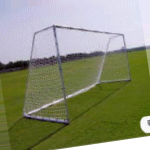goals: (21, 23, 134, 125)
